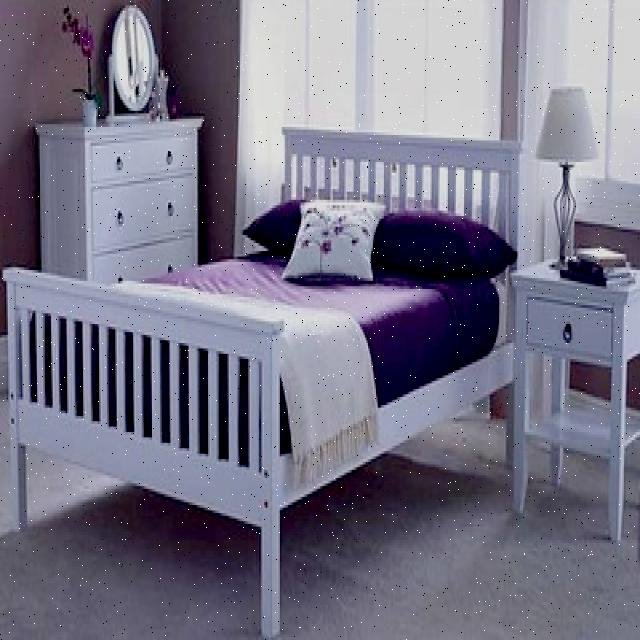bed: (15, 132, 511, 530)
